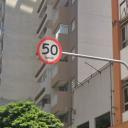speed_limit_50: (37, 37, 62, 64)
